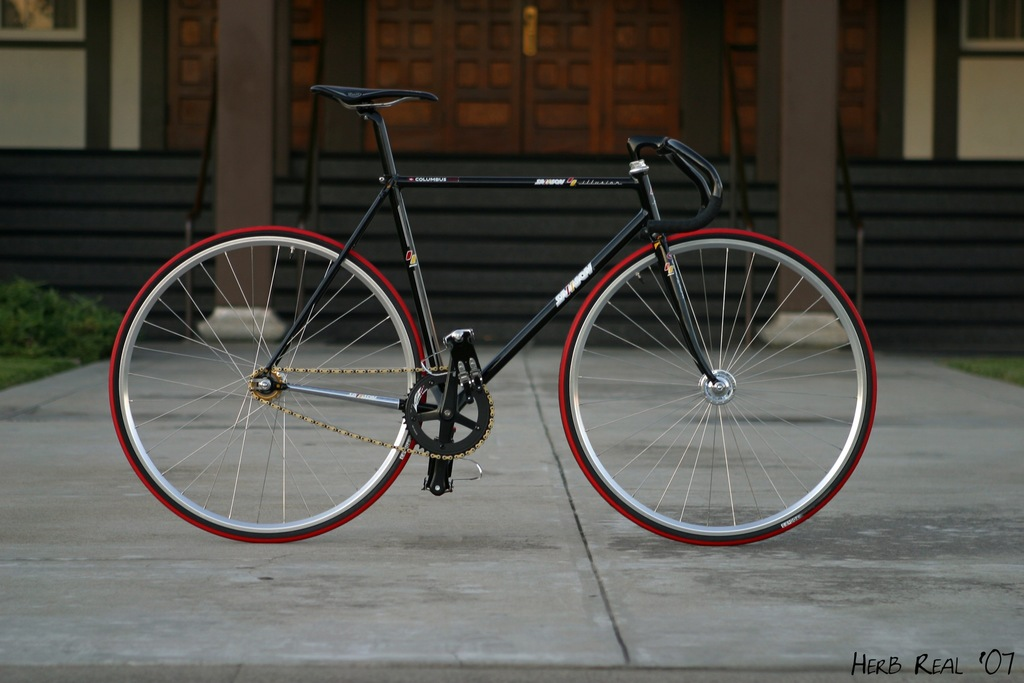Bike: (118, 102, 884, 532)
